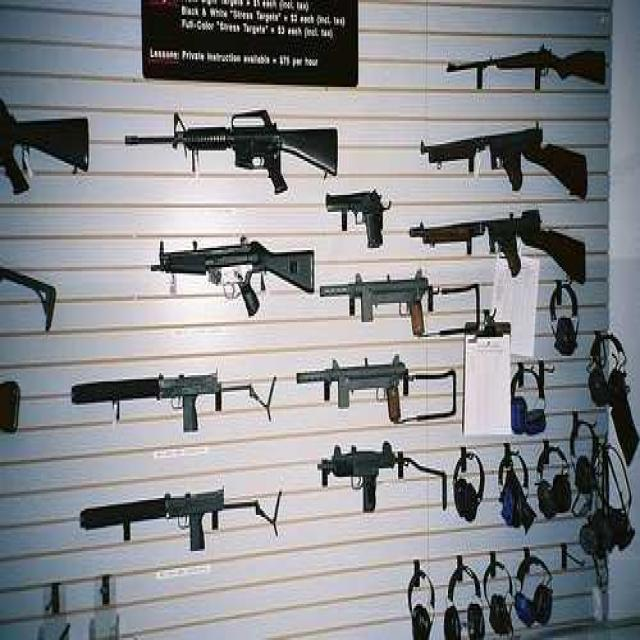heavyweapon: (123, 97, 343, 205), (397, 179, 594, 283), (72, 357, 282, 438), (419, 118, 593, 209), (70, 474, 233, 561), (446, 29, 609, 109), (150, 232, 319, 306), (290, 357, 411, 431), (308, 444, 407, 526), (320, 272, 438, 336)
